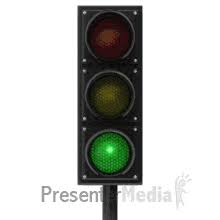green: (74, 3, 149, 188), (81, 8, 140, 181), (85, 11, 135, 176)
